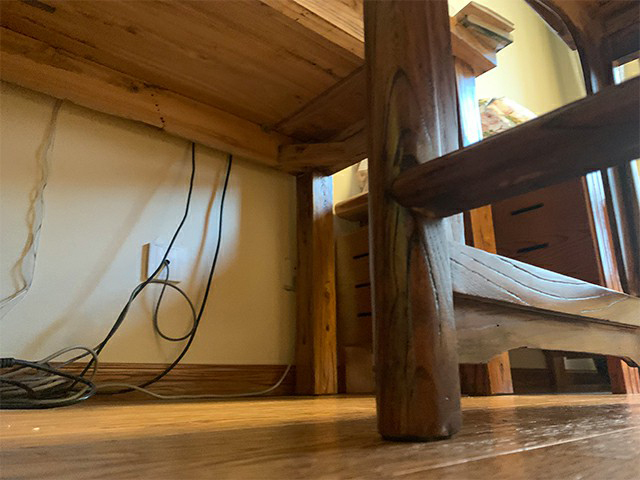wire: (1, 143, 291, 413)
